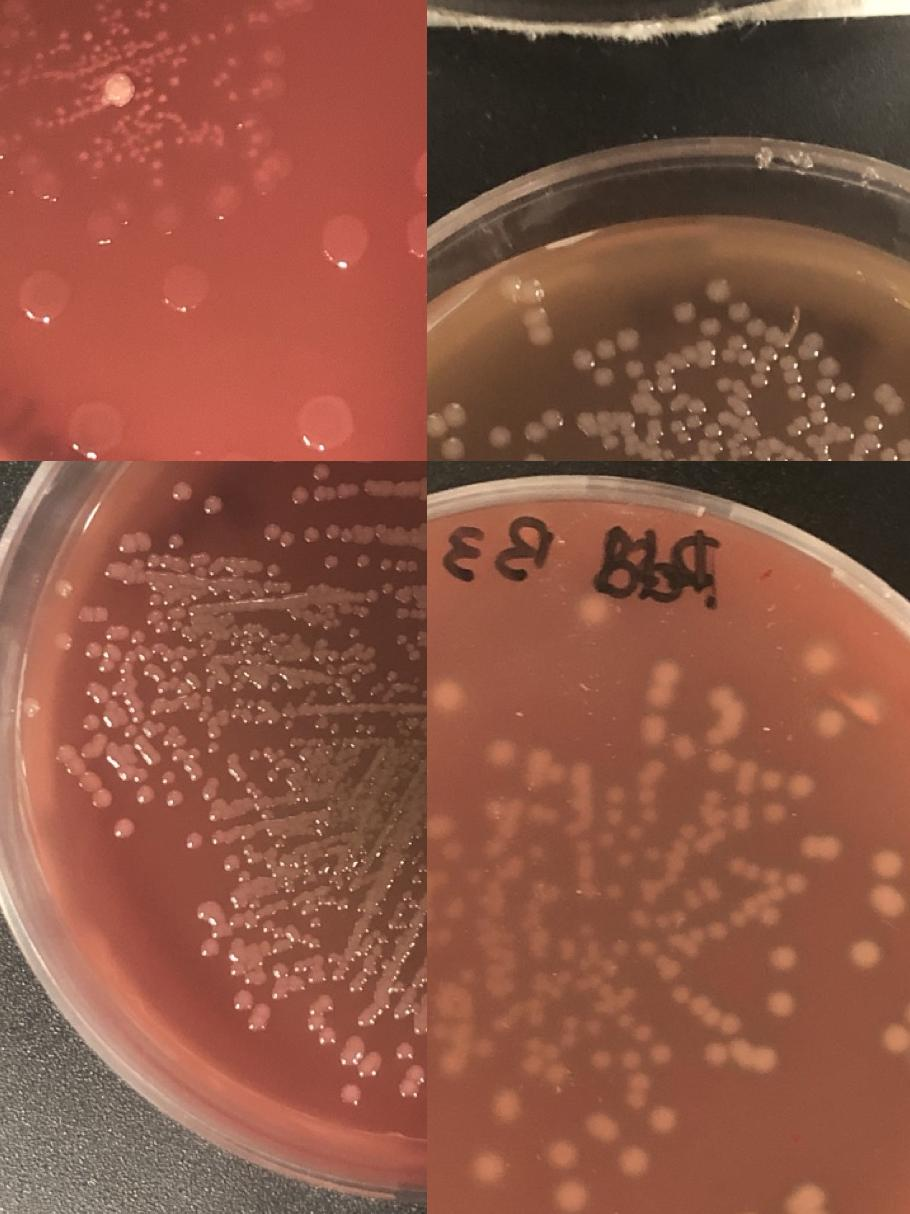pddamselae: (724, 856, 807, 930), (670, 984, 742, 1036), (617, 1052, 654, 1112), (556, 956, 608, 996), (557, 1011, 604, 1052), (644, 658, 681, 710), (680, 874, 726, 914), (864, 882, 908, 920), (706, 907, 750, 944), (883, 997, 910, 1052), (615, 1012, 656, 1046), (678, 822, 714, 856), (609, 937, 657, 962), (764, 988, 798, 1020), (604, 784, 628, 828), (706, 747, 738, 779), (427, 811, 456, 843), (819, 709, 848, 738), (769, 942, 798, 970), (640, 717, 668, 746), (558, 1182, 586, 1210), (620, 1146, 648, 1174), (548, 1140, 576, 1168), (851, 939, 879, 967), (875, 850, 903, 878), (760, 800, 788, 828), (487, 738, 515, 766), (580, 596, 608, 624), (788, 771, 815, 799), (436, 682, 463, 710), (463, 864, 488, 891), (630, 909, 654, 934), (652, 1108, 676, 1132), (589, 1049, 613, 1073), (680, 940, 704, 964), (650, 1042, 673, 1066), (704, 1042, 727, 1066), (603, 882, 626, 906), (702, 786, 724, 810), (434, 927, 456, 949), (574, 922, 596, 944), (526, 844, 548, 866), (637, 804, 659, 826), (525, 1035, 545, 1055), (526, 1009, 546, 1028), (458, 967, 477, 987), (617, 853, 635, 870), (644, 847, 662, 862), (597, 833, 615, 848), (626, 827, 643, 842)
tmaritimum: (70, 406, 126, 460), (22, 272, 72, 322), (160, 262, 210, 312), (321, 216, 371, 266), (302, 398, 352, 447), (253, 150, 291, 196), (234, 115, 268, 166), (5, 0, 41, 40), (82, 210, 118, 246), (151, 200, 187, 236), (210, 182, 246, 218), (31, 169, 67, 204), (406, 208, 427, 258), (158, 41, 189, 64), (137, 54, 156, 86), (415, 149, 427, 199), (122, 22, 138, 58), (244, 7, 271, 25), (207, 125, 227, 148), (134, 0, 157, 20), (79, 45, 103, 64), (47, 114, 78, 128), (274, 0, 302, 15), (129, 146, 151, 165), (112, 192, 132, 212), (20, 151, 40, 171), (9, 128, 29, 148), (49, 42, 73, 57), (0, 26, 18, 45), (0, 58, 16, 78), (212, 71, 230, 88), (174, 114, 190, 132), (104, 27, 119, 46), (93, 0, 110, 15), (114, 114, 132, 128), (247, 82, 261, 100), (168, 72, 182, 90), (152, 176, 166, 192), (152, 136, 166, 152), (136, 104, 152, 118), (82, 28, 96, 44), (154, 28, 168, 44), (207, 28, 221, 44), (150, 157, 164, 172), (226, 89, 240, 104), (223, 21, 237, 36), (113, 3, 127, 18), (159, 0, 173, 15), (264, 76, 276, 93), (225, 54, 239, 68), (264, 50, 278, 64), (190, 32, 202, 48)
vangil: (56, 744, 113, 808), (117, 762, 154, 805), (342, 1035, 378, 1079), (235, 992, 271, 1032), (400, 1066, 427, 1102), (308, 1014, 336, 1048), (223, 854, 252, 885), (262, 523, 296, 547), (119, 532, 152, 552), (366, 582, 394, 604), (379, 558, 420, 573), (172, 650, 195, 673), (314, 717, 342, 734), (262, 580, 292, 594), (340, 1084, 360, 1104), (397, 1042, 417, 1062), (185, 830, 205, 850), (115, 819, 135, 839), (165, 788, 185, 808), (82, 742, 102, 762), (80, 712, 100, 732), (85, 640, 105, 660), (54, 631, 74, 651), (200, 901, 219, 921), (92, 685, 112, 704), (201, 942, 220, 961), (54, 580, 74, 598), (106, 562, 124, 580), (167, 530, 185, 548), (324, 522, 342, 540), (204, 496, 222, 514), (292, 487, 310, 505), (174, 484, 192, 502), (200, 784, 217, 802), (131, 628, 148, 646), (323, 552, 340, 570), (348, 978, 364, 996), (356, 552, 372, 570), (303, 526, 319, 544), (413, 1016, 427, 1036), (265, 562, 282, 578), (312, 486, 329, 502), (312, 464, 329, 480), (246, 850, 261, 867), (309, 916, 325, 931), (230, 913, 246, 928), (331, 968, 347, 982), (325, 950, 341, 964), (336, 896, 352, 910), (324, 618, 342, 630), (272, 964, 287, 978), (208, 726, 222, 740), (408, 648, 422, 662), (206, 741, 220, 754), (142, 663, 156, 676), (247, 749, 260, 762), (265, 771, 279, 783), (282, 718, 296, 730), (157, 682, 171, 694), (230, 682, 244, 694), (217, 674, 231, 686), (396, 608, 409, 620), (150, 704, 162, 716), (396, 633, 408, 645), (415, 629, 427, 641), (348, 626, 360, 638)
vharveyi: (780, 352, 857, 428), (569, 325, 643, 388), (726, 298, 783, 366), (427, 400, 470, 438), (522, 408, 564, 444), (720, 332, 756, 369), (873, 381, 906, 418), (485, 422, 513, 451), (696, 313, 724, 342), (526, 318, 556, 345), (672, 296, 700, 324), (704, 276, 732, 304), (440, 435, 468, 461), (881, 437, 910, 461), (800, 331, 822, 362), (622, 358, 645, 380), (704, 421, 722, 441), (688, 397, 706, 417), (750, 371, 766, 391), (578, 410, 594, 428), (523, 451, 547, 461)
